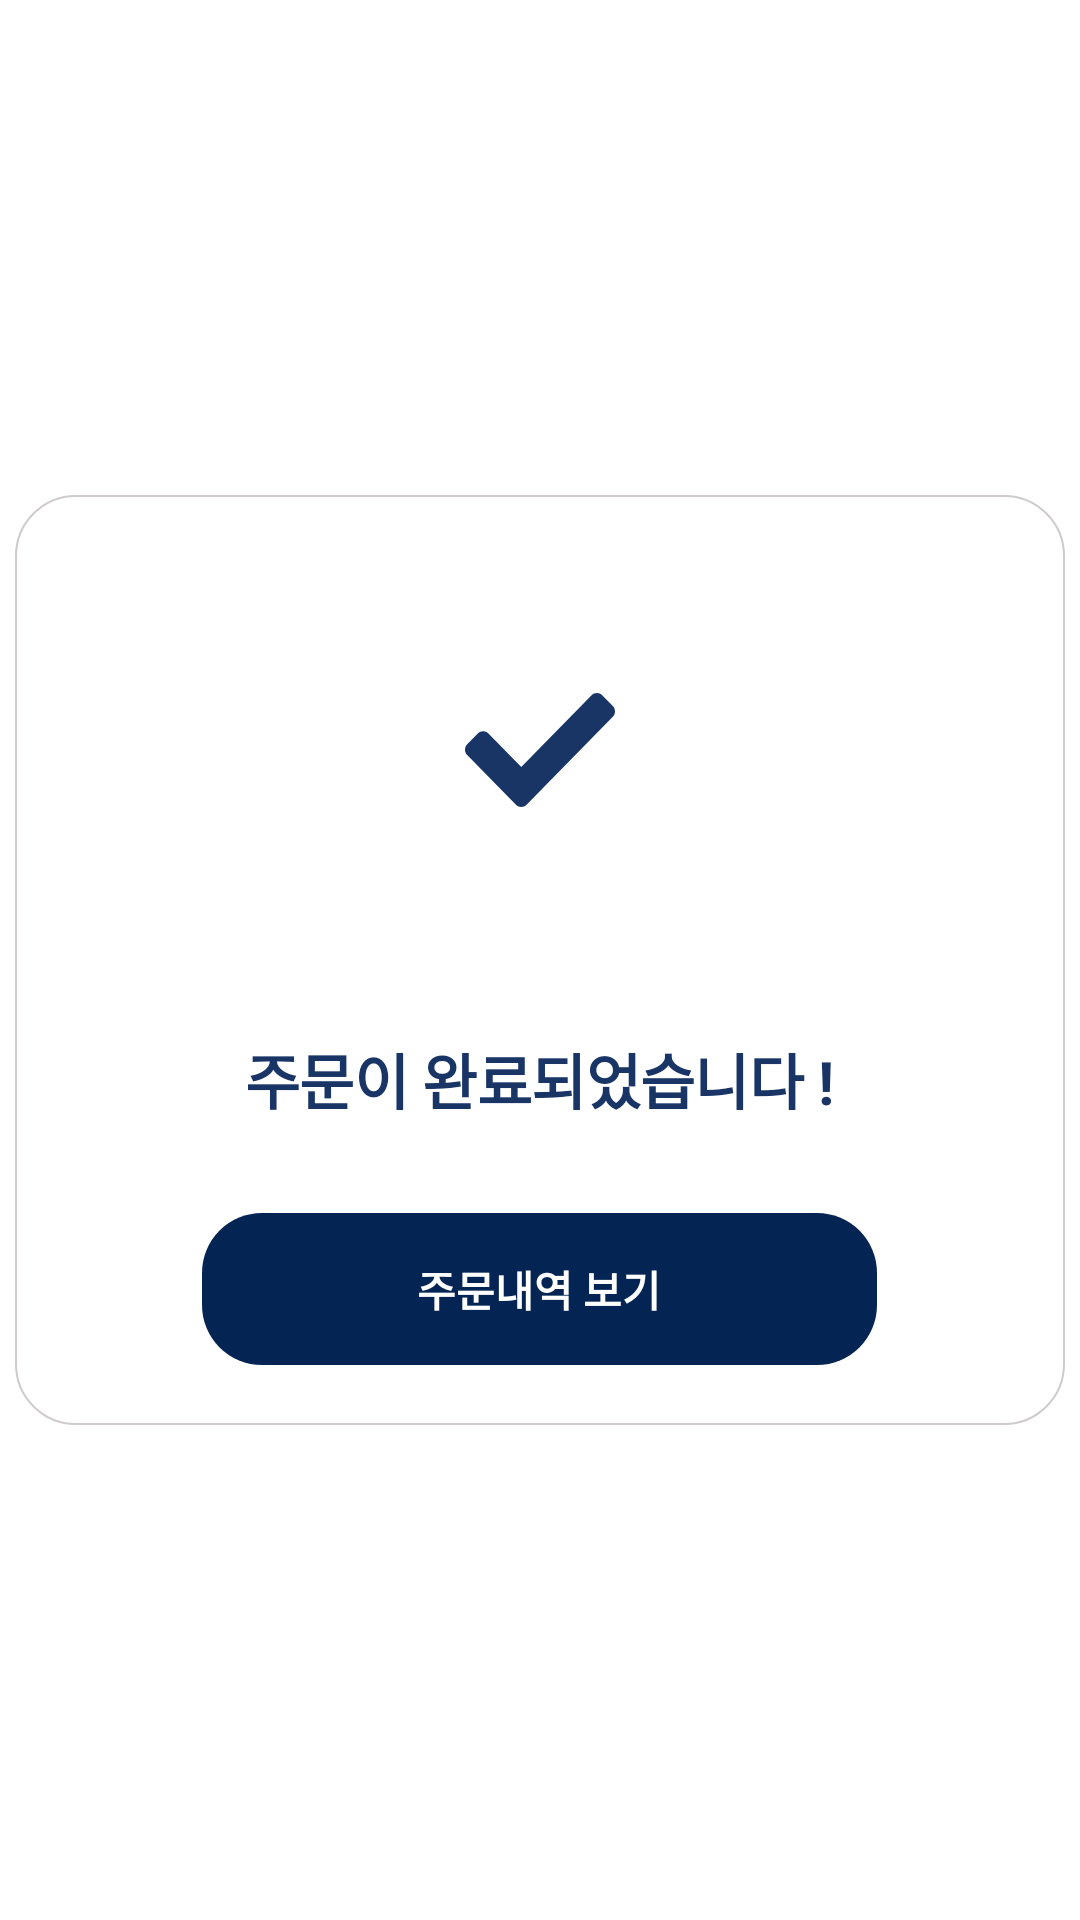

Point at icon controls on the screen. Image size 1080px×1920px, points as (x,y).
awesome check: (540,750)
